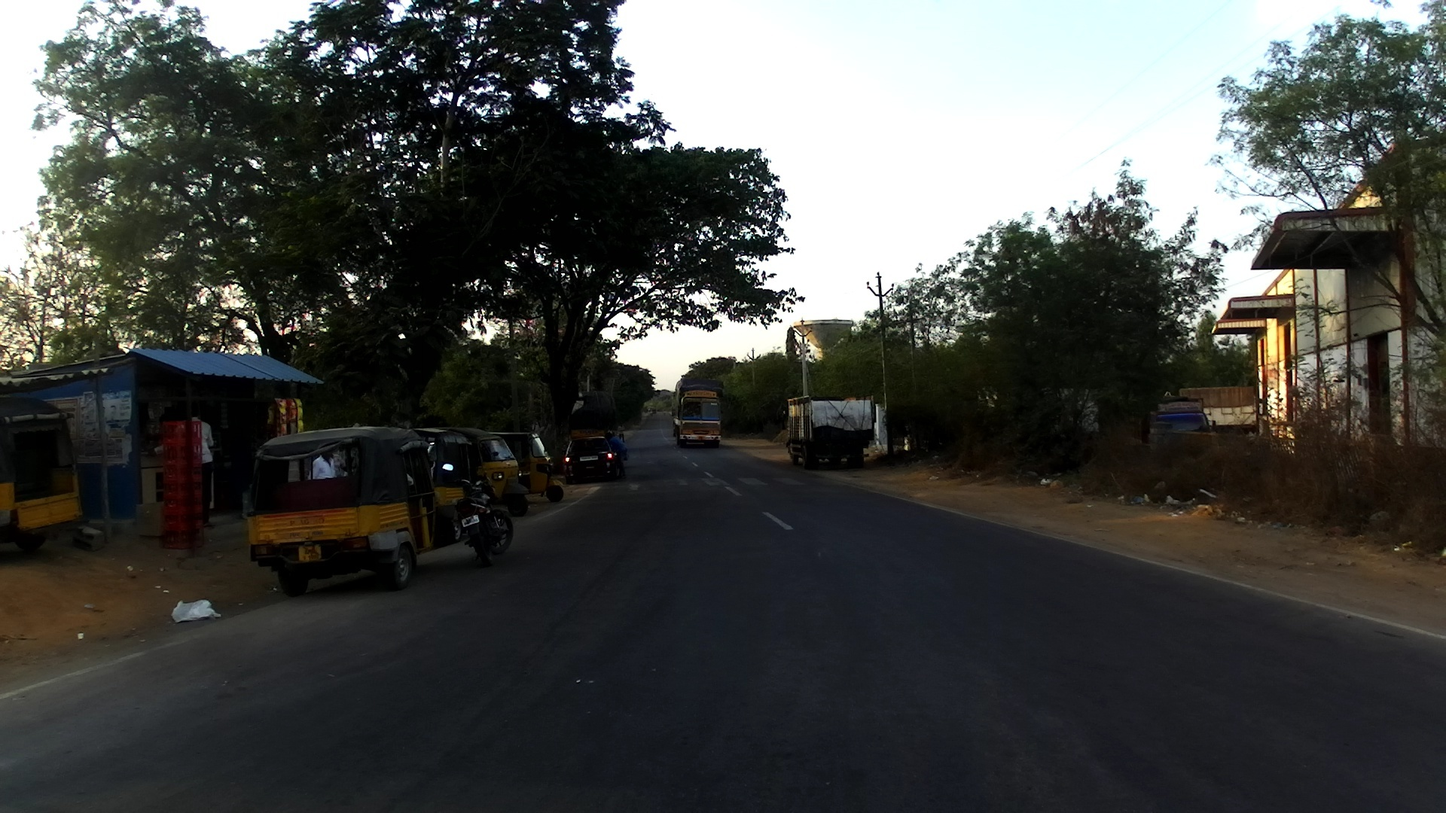autorickshaw: (246, 423, 444, 596), (1, 396, 85, 562), (444, 423, 534, 520), (411, 428, 478, 546), (486, 433, 567, 504)
car: (564, 433, 618, 486)
motorcycle: (446, 455, 515, 564)
person: (150, 406, 220, 530), (606, 430, 629, 481), (618, 421, 627, 443)
truck: (784, 389, 883, 470), (1161, 385, 1263, 444), (1146, 394, 1222, 464), (673, 379, 729, 450)
